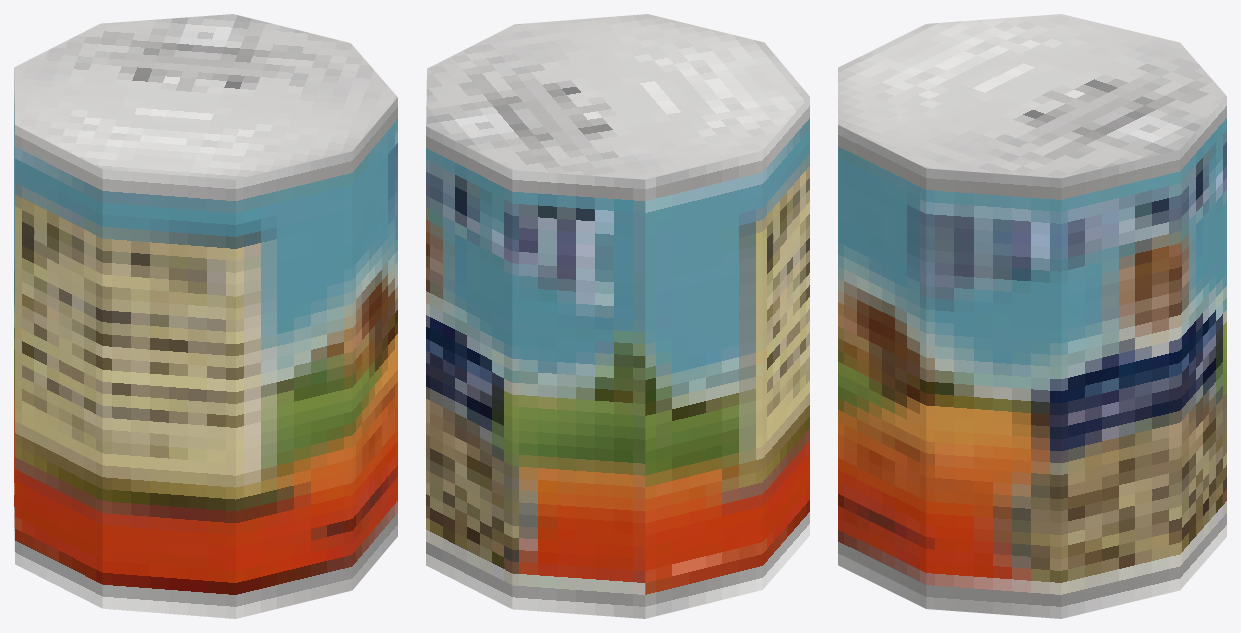
Rendered from food_canned_soup_9.glb.
3 views of the same model, side by side, from view 1: azimuth 30°, elevation 25°; view 2: azimuth 150°, elevation 25°; view 3: azimuth 270°, elevation 25° (orthographic).
Parts seen in each view (by area): view 1: Food_Canned_Soup_9; view 2: Food_Canned_Soup_9; view 3: Food_Canned_Soup_9.
Boxes of the visible parts, x1,y1,x2,y2 form: Food_Canned_Soup_9: [14, 14, 397, 618]; Food_Canned_Soup_9: [426, 14, 809, 618]; Food_Canned_Soup_9: [838, 14, 1226, 618].
Bounding box in the file's own units: 0.1016 × 0.127 × 0.1016.
1 material, 1 textured.
